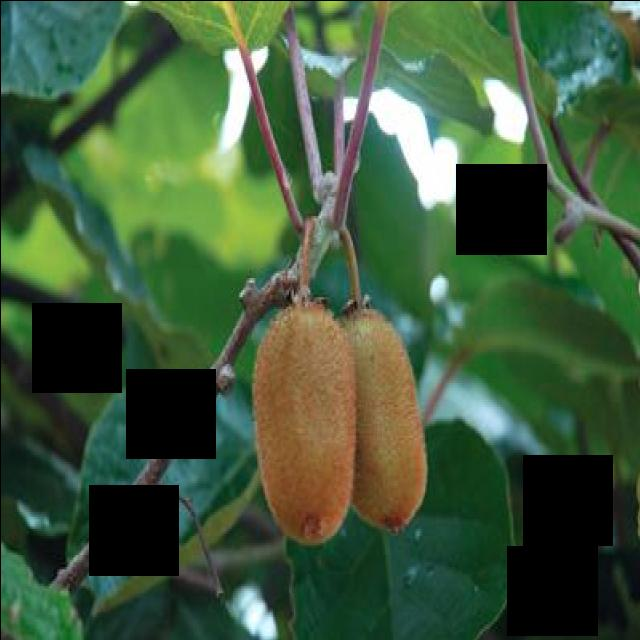kiwi: (253, 297, 360, 553), (332, 302, 433, 541)
